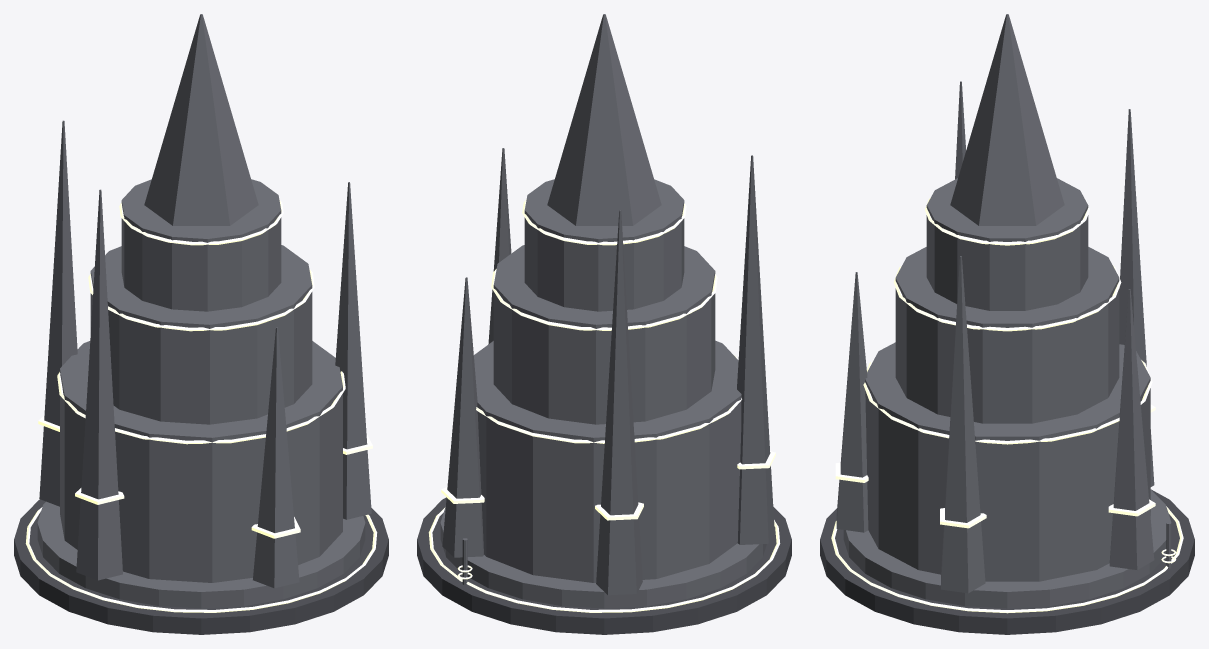
The model's file is zone_high_3_t2.glb.
3 renders of one model, left to right at view 1: azimuth 30°, elevation 25°; view 2: azimuth 150°, elevation 25°; view 3: azimuth 270°, elevation 25°, orthographic.
Parts seen in each view (by area): view 1: zone_high_3_t2; view 2: zone_high_3_t2; view 3: zone_high_3_t2.
Boxes of the visible parts, box(x1,y1,x2,y2) form: zone_high_3_t2: box(14, 14, 388, 634); zone_high_3_t2: box(417, 14, 791, 634); zone_high_3_t2: box(820, 14, 1194, 634).
Size of the model in its own units: 28.8 by 45.89 by 28.8.
